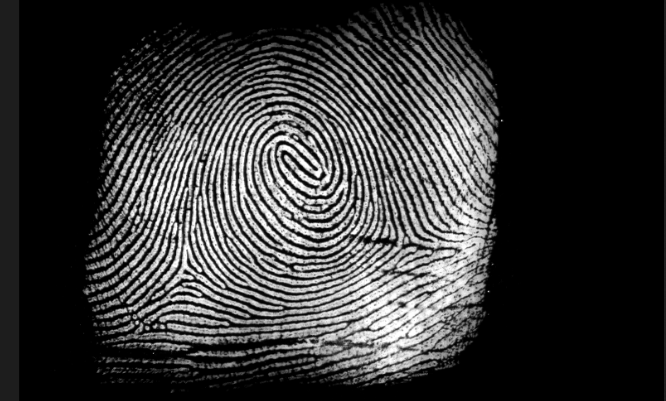nucelo: (271, 138, 326, 185)
verticilo: (164, 253, 214, 286), (383, 221, 425, 257)
